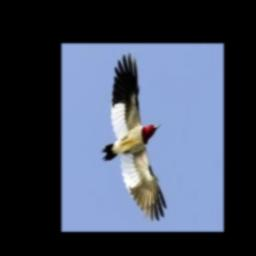Woodpecker: (101, 52, 166, 221)
